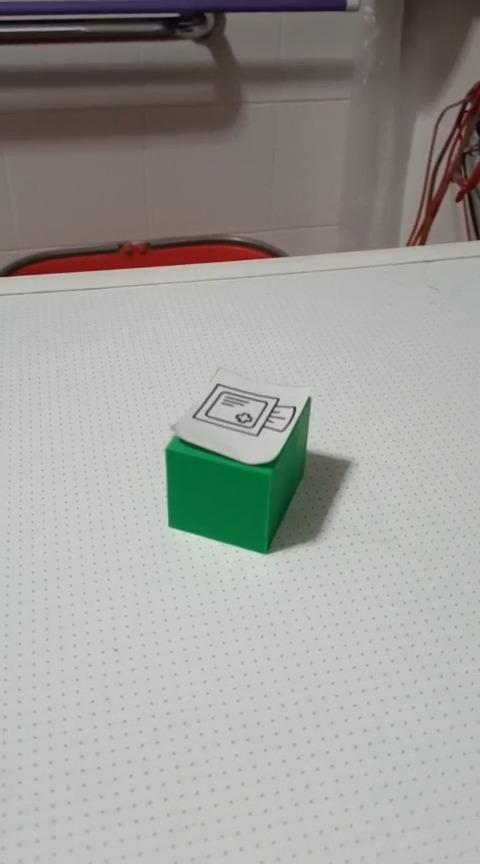Gauze: (163, 365, 312, 554)
